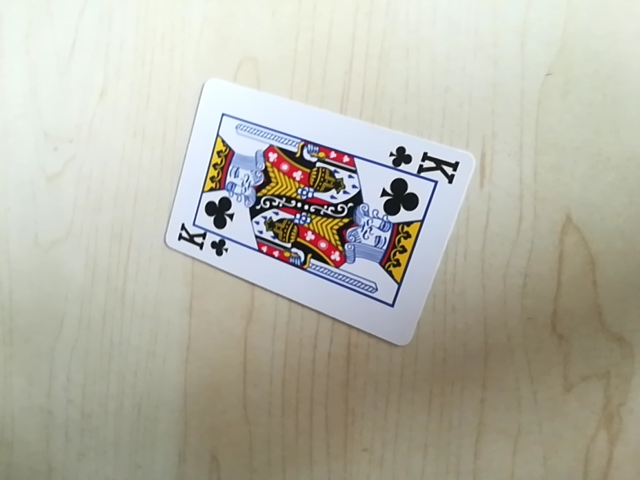mh k: (384, 146, 462, 181), (173, 225, 230, 258)
